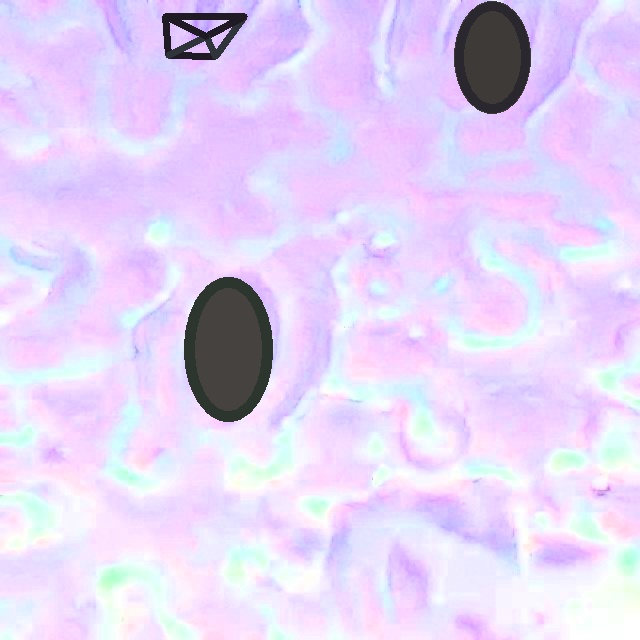open: (184, 278, 272, 420), (454, 1, 529, 113), (165, 14, 247, 58)
